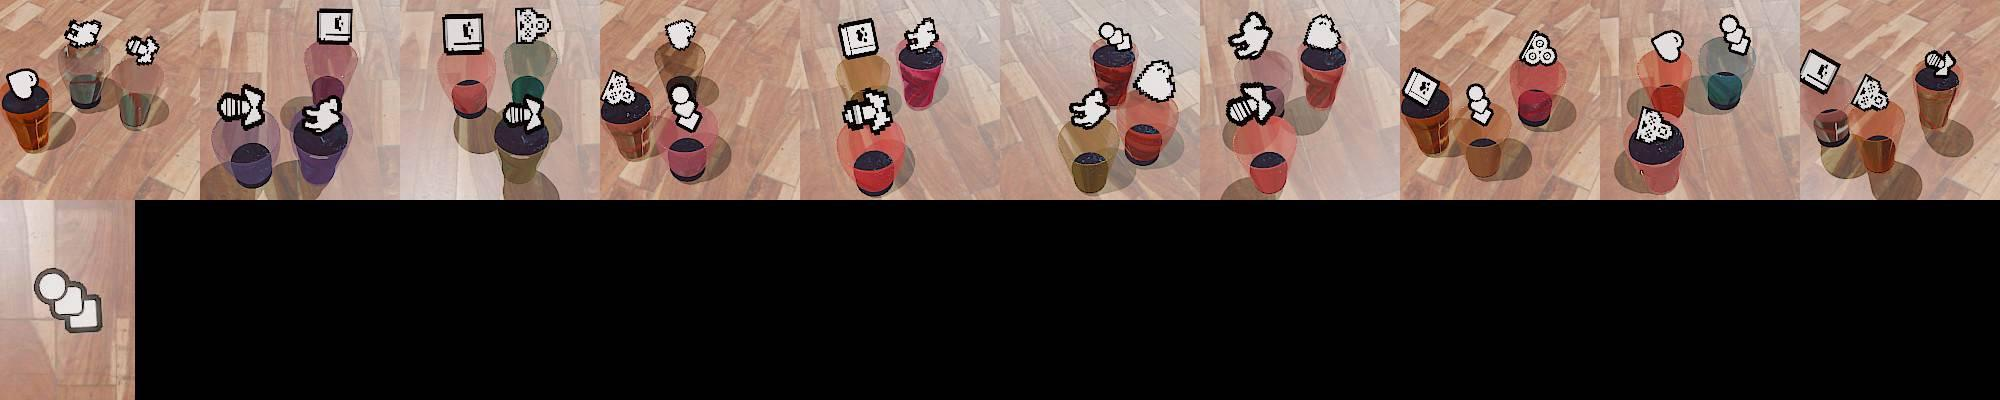icon: (33, 267, 107, 333), (842, 86, 894, 135), (1226, 79, 1278, 126), (216, 84, 268, 130), (1229, 11, 1271, 62), (1130, 58, 1177, 103), (1799, 49, 1842, 98), (667, 79, 704, 131), (837, 18, 879, 61), (300, 91, 343, 133), (1401, 66, 1442, 110), (441, 14, 485, 55), (1068, 87, 1110, 129), (1635, 105, 1678, 145), (1301, 13, 1343, 53), (1517, 28, 1559, 68), (503, 91, 545, 128), (1851, 74, 1889, 112), (316, 8, 353, 46), (1719, 14, 1752, 56), (515, 7, 551, 45), (902, 17, 938, 54), (601, 69, 637, 106), (63, 19, 103, 51), (1466, 82, 1495, 126), (1095, 20, 1133, 53), (1650, 29, 1684, 64), (5, 68, 40, 102), (663, 18, 698, 51), (124, 34, 160, 66), (1924, 50, 1955, 76)
